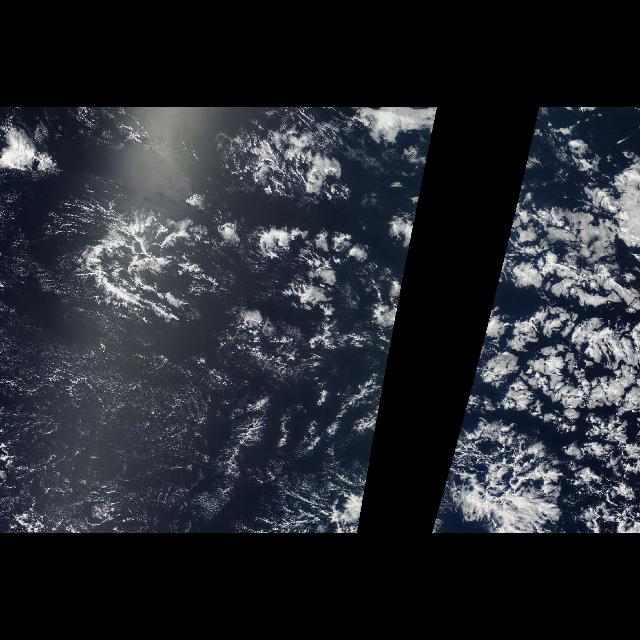Flower: (432, 188, 640, 530), (390, 195, 422, 347)
Gravel: (2, 313, 384, 533)
Sugar: (2, 178, 250, 532)
